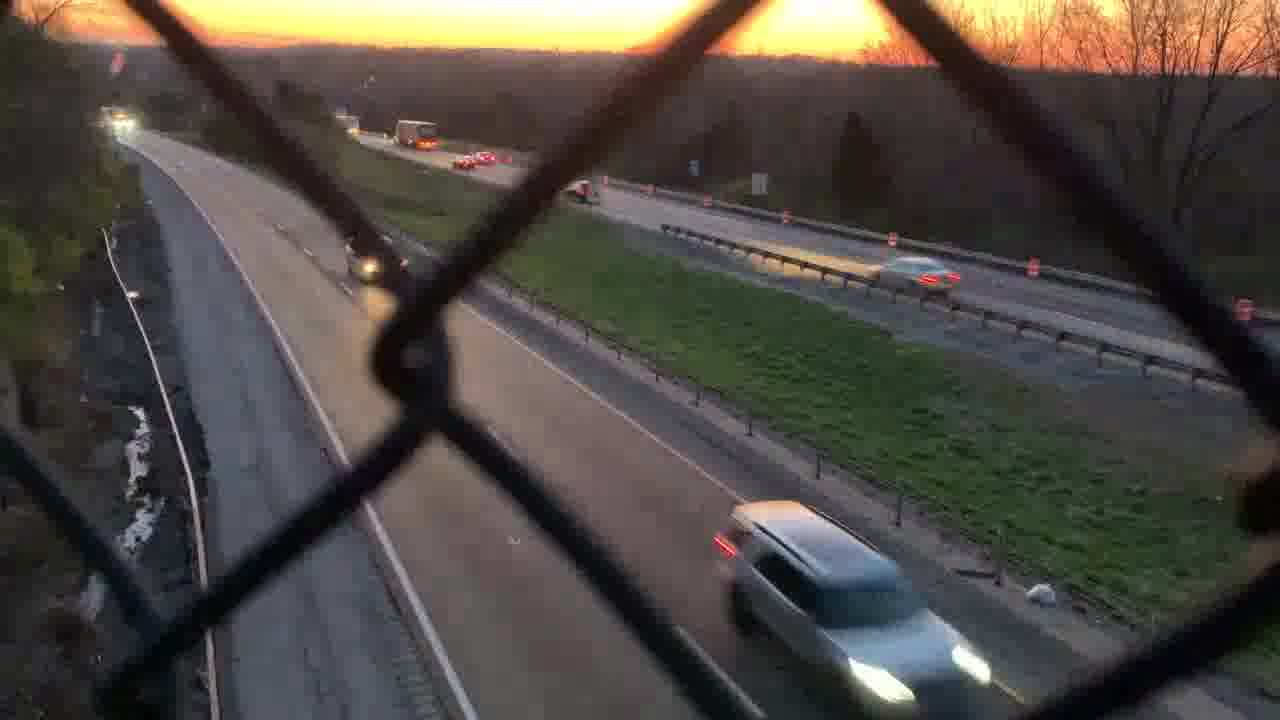heavyTruck: (384, 122, 437, 148)
largeCar: (714, 493, 997, 718)
smallCar: (872, 248, 962, 298), (449, 155, 482, 170)
